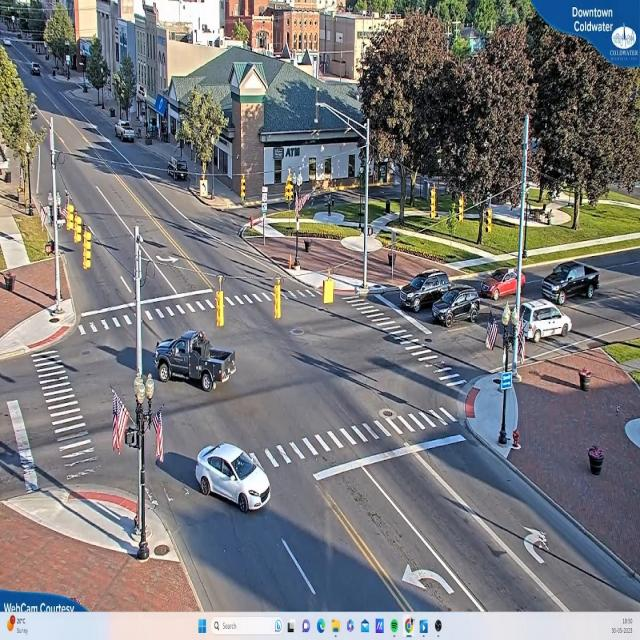car: (183, 441, 274, 514), (156, 332, 238, 392), (483, 269, 554, 305), (546, 263, 602, 304), (401, 272, 455, 313), (432, 289, 482, 327), (523, 302, 570, 341), (117, 122, 137, 145)
